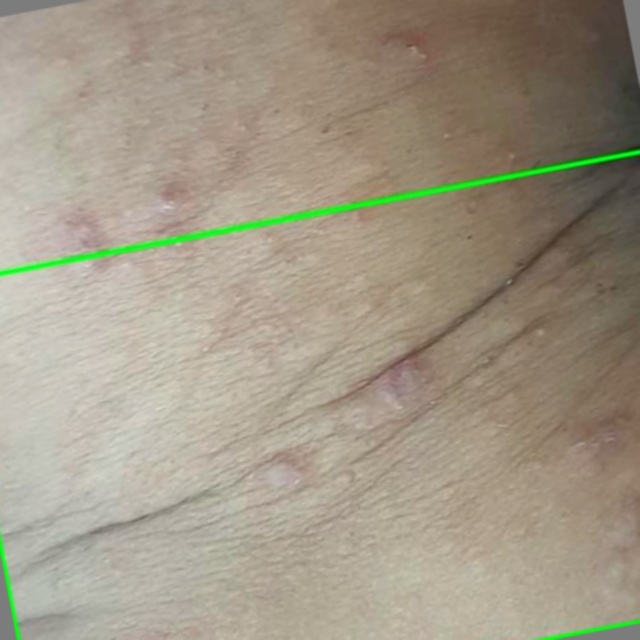Scabies: (0, 150, 639, 639)
